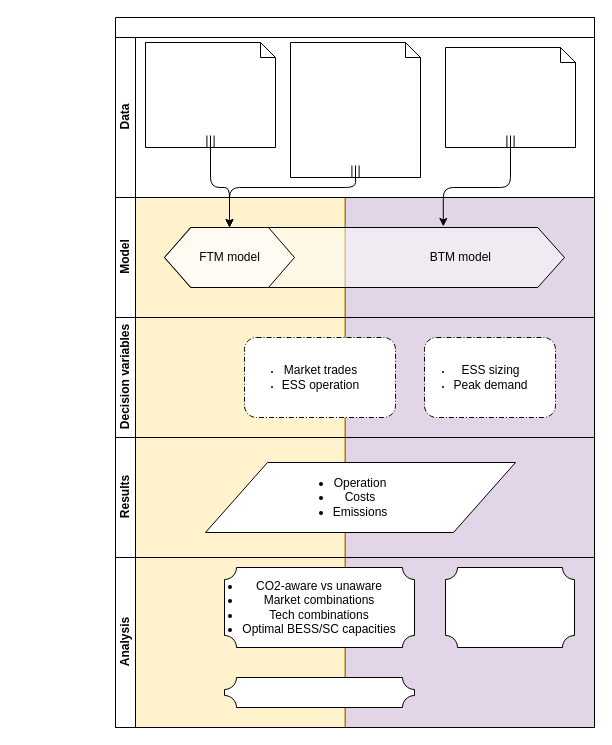
Some shapes in this 612 by 745 pixel diagram are drawn without their labels. The centre of each missing label's shape, as x and y in pixels:
"ESS structure (ESS sizing) ESS aging CAPEX CO2 cost" goes at (x=210, y=95).
"Markets indicators analysis" goes at (x=319, y=692).
"Optimal sizing" goes at (x=509, y=607).
"Price DA Price ID Price FCR Price aFRRc Cost aFRRe Activated aFRRe Marginal CO2" goes at (x=355, y=110).
"PV yield Industrial load Peak costs Grid fees" goes at (x=510, y=97).
